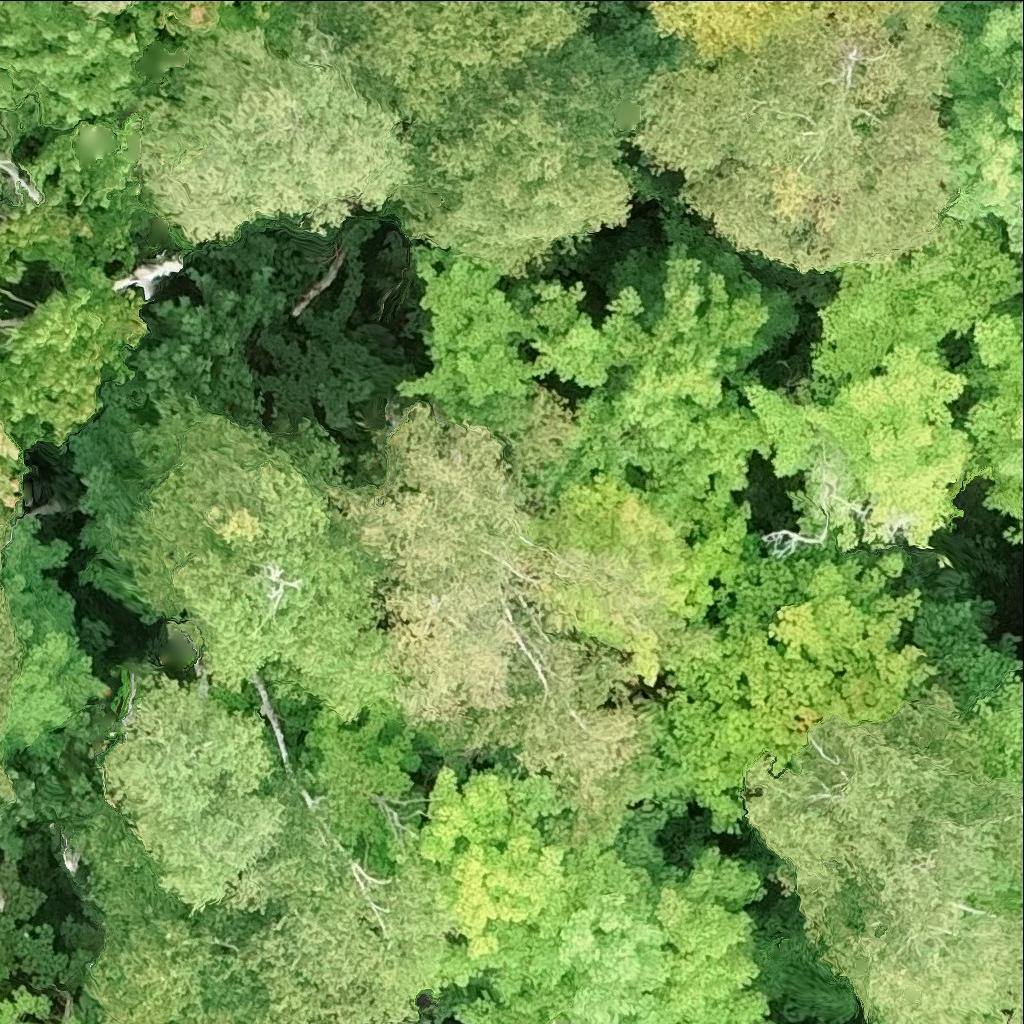crown: (326, 391, 702, 849), (609, 496, 1023, 847), (88, 670, 446, 1023), (502, 246, 772, 623), (745, 212, 1023, 556), (741, 686, 1023, 1023), (420, 769, 767, 1023), (131, 402, 397, 720), (638, 15, 964, 269), (385, 29, 642, 275), (140, 31, 411, 244), (295, 0, 597, 119), (395, 239, 551, 439), (0, 267, 148, 450), (938, 0, 1023, 253), (0, 543, 104, 745), (948, 298, 1023, 544), (0, 0, 142, 127), (123, 0, 232, 40), (0, 591, 24, 756), (112, 254, 182, 299), (0, 427, 22, 526), (71, 0, 140, 13), (0, 762, 18, 808), (0, 521, 13, 579), (250, 0, 283, 16), (553, 1023, 554, 1023)
